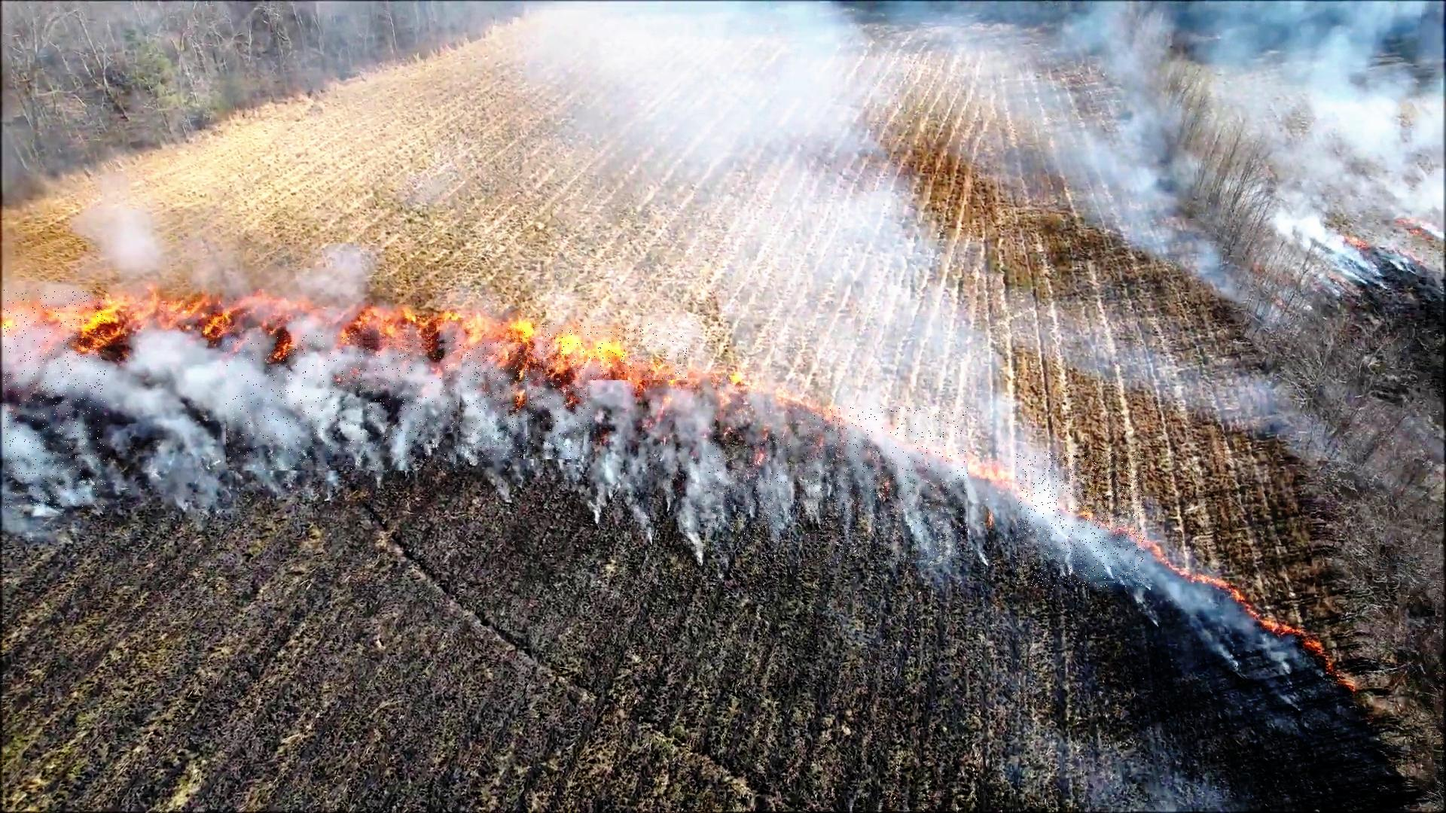fire: (508, 324, 689, 380)
smoke: (226, 335, 463, 470), (806, 406, 968, 565), (4, 290, 105, 508), (1017, 452, 1145, 587), (708, 437, 791, 542), (523, 331, 591, 459), (467, 343, 527, 459)
